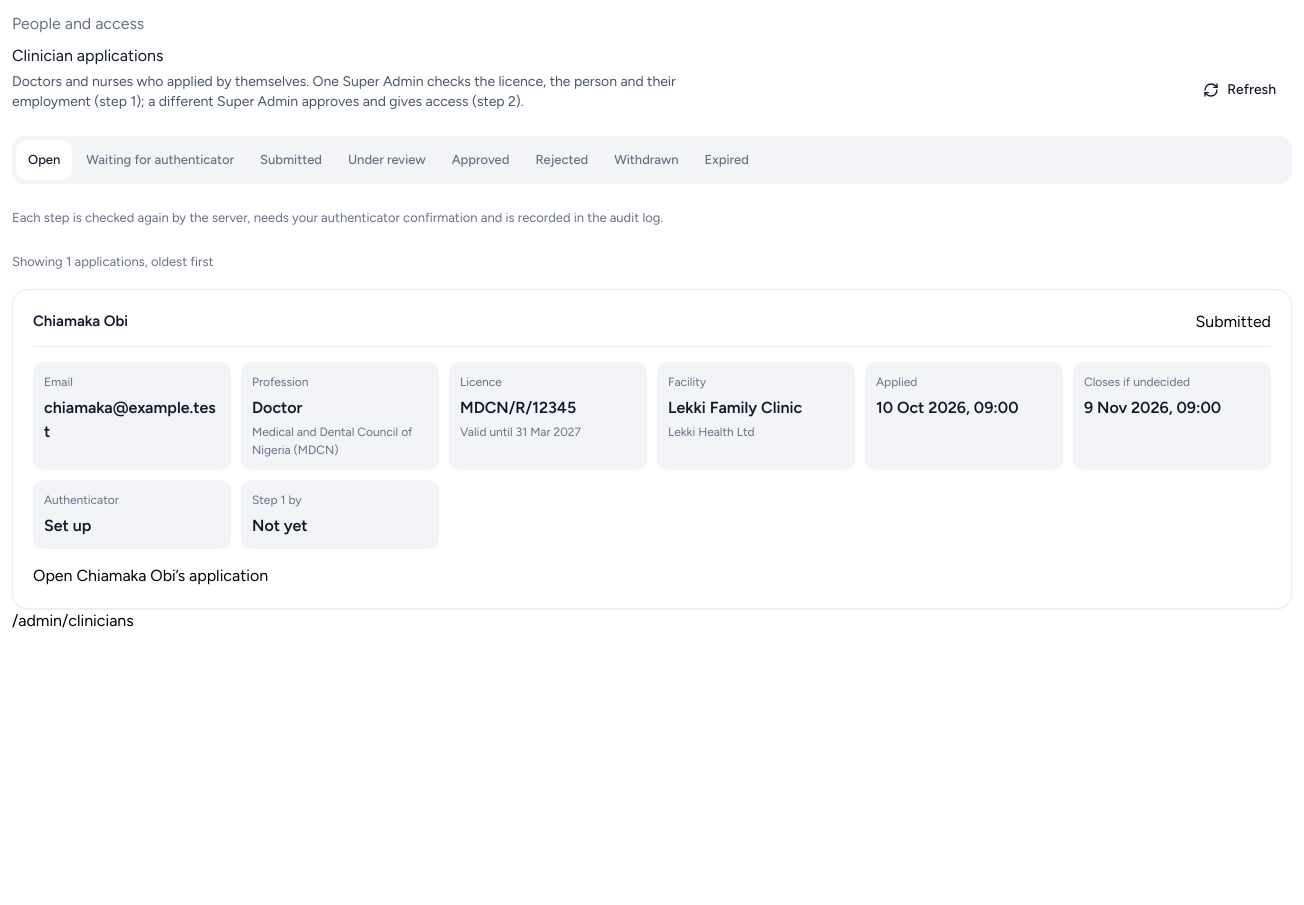
Test: clinician verification queue (A1) › filters by state through the address, newest first, and pages with the cursor of that state
Check: the text "Showing 1 applications, oldest first" is shown, box [12,254,214,268]
Click the button "Under review" at (387, 160), box [336,140,438,180]
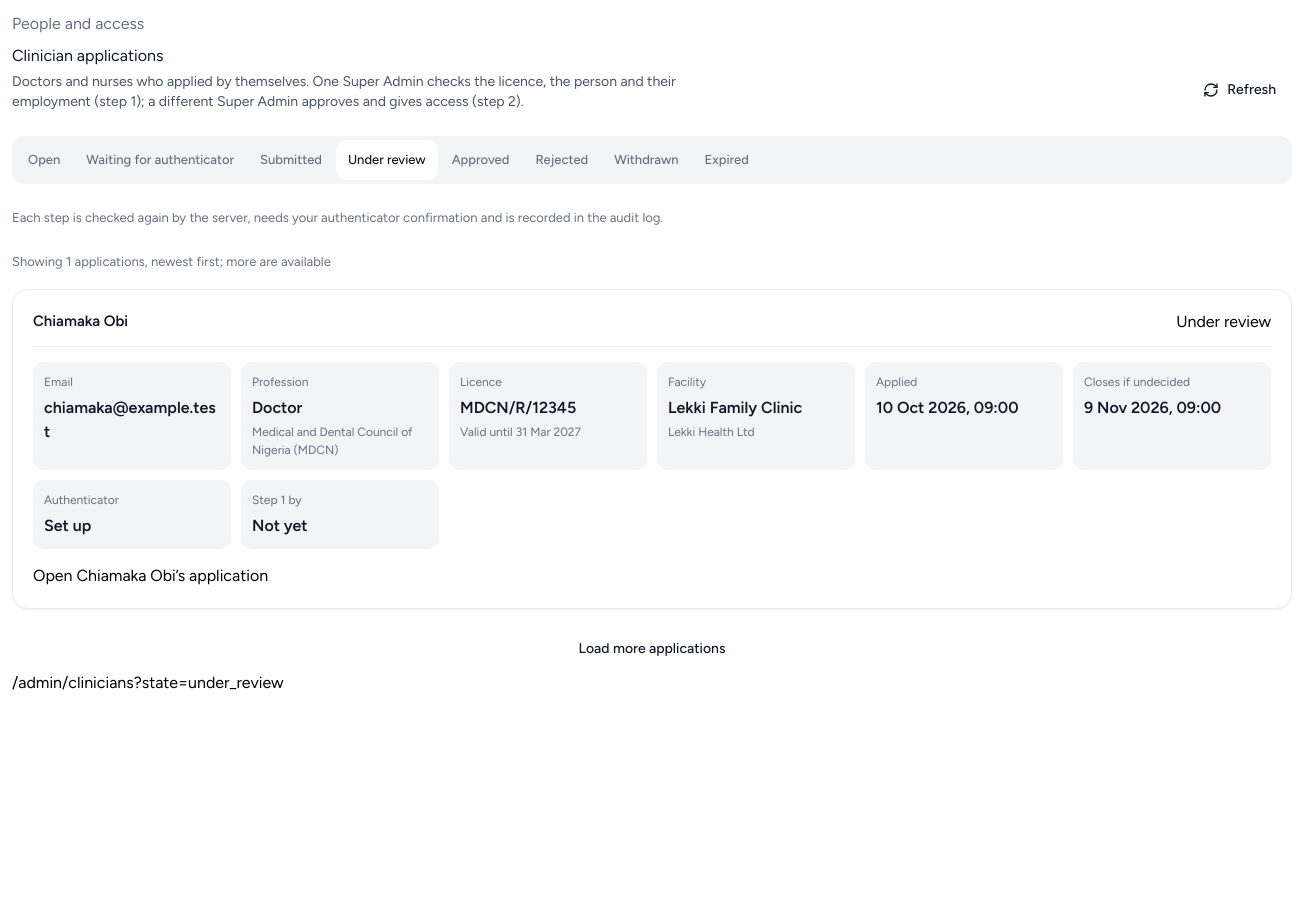
Check: the text "Showing 1 applications, newest first; more are available" is shown, box [12,254,331,268]
Check: the text with test id "location" reads "/admin/clinicians?state=under_review", box [12,673,284,692]
Click the button "Load more applications" at (652, 649), box [12,627,1292,671]
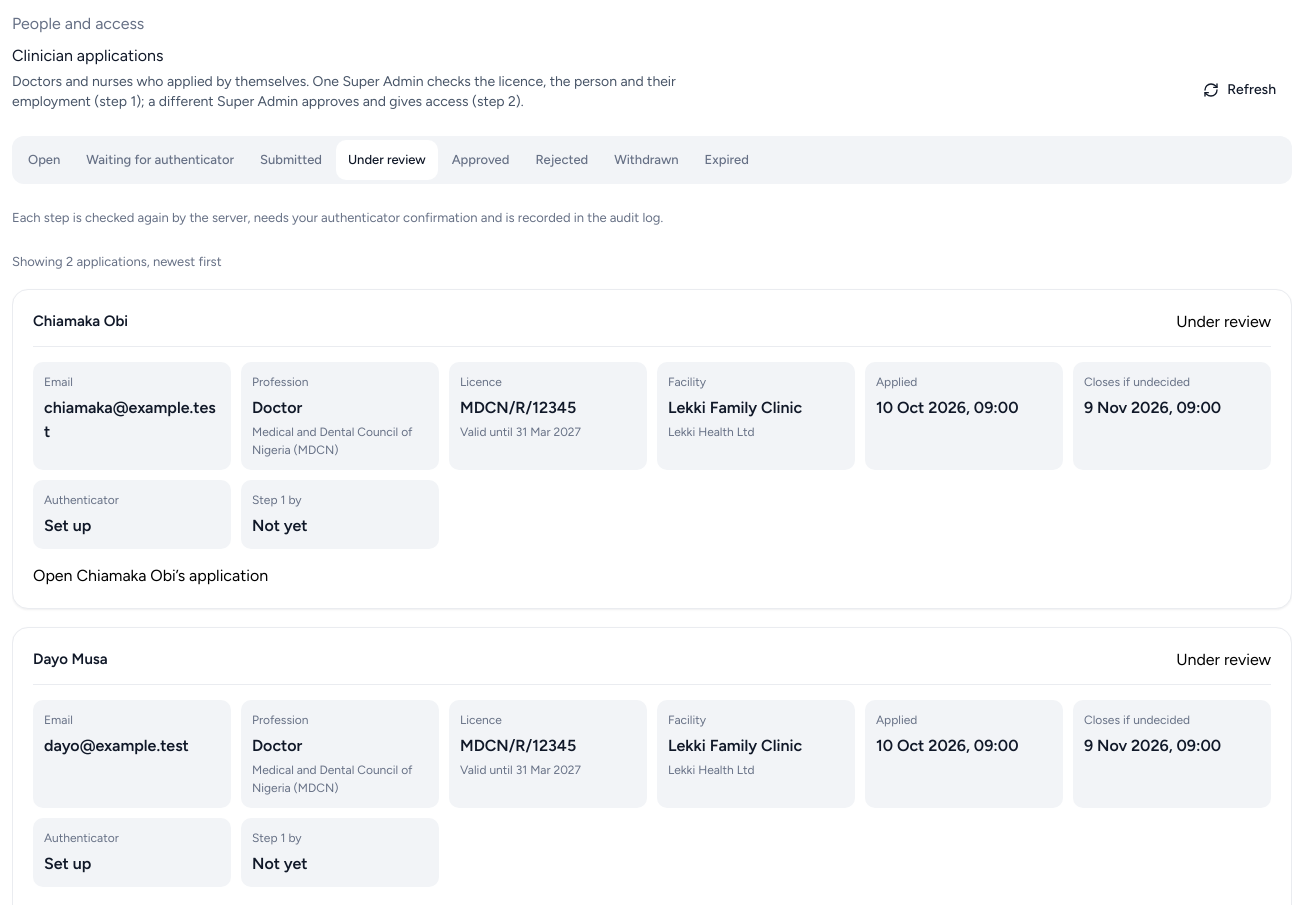
Check: the heading "Dayo Musa" is shown, box [33,648,108,670]
Check: the button "Load more applications" is gone
Click the button "Open" at (44, 160), box [16,140,72,180]
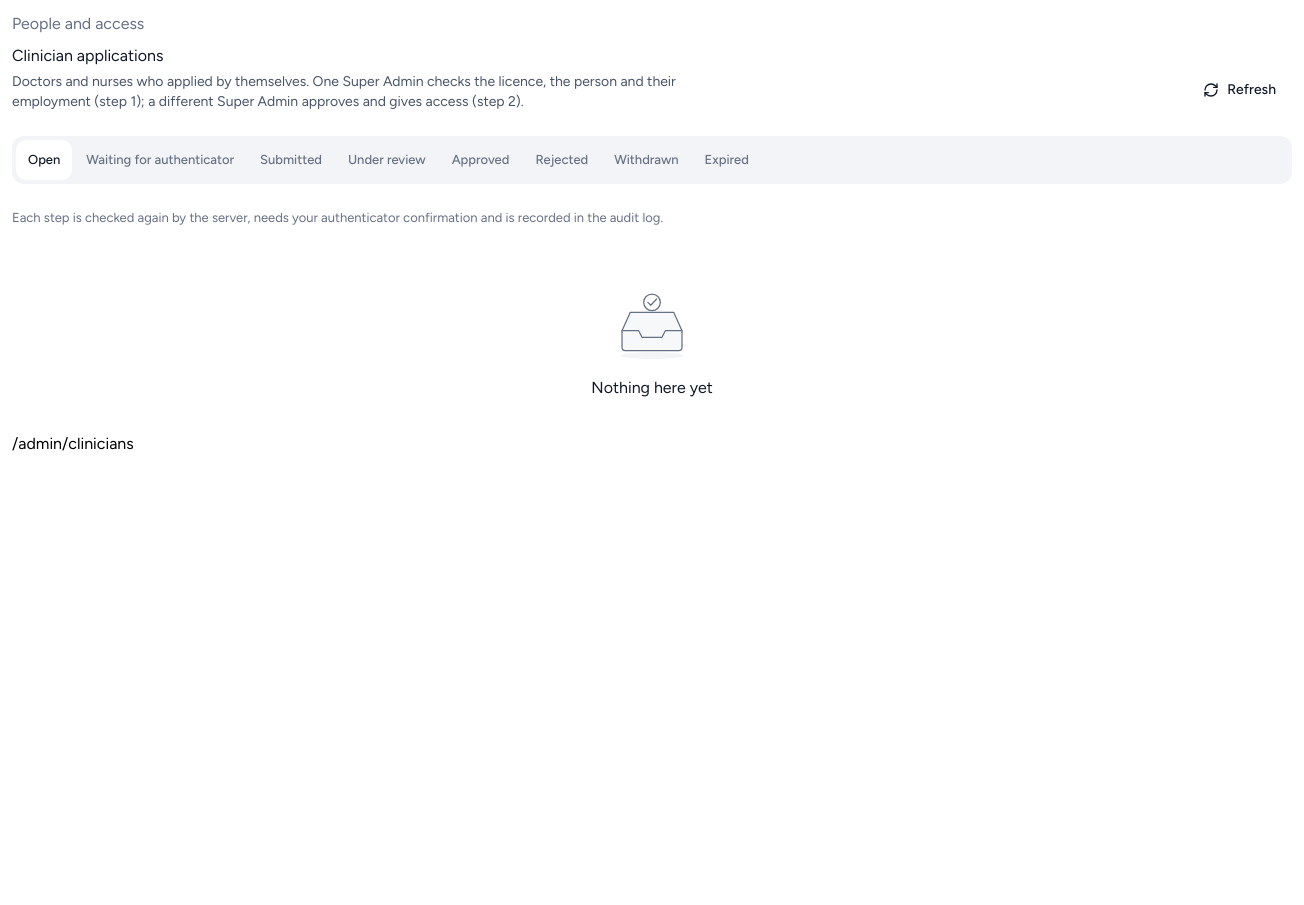
Check: the text with test id "location" reads "/admin/clinicians", box [12,434,134,452]
